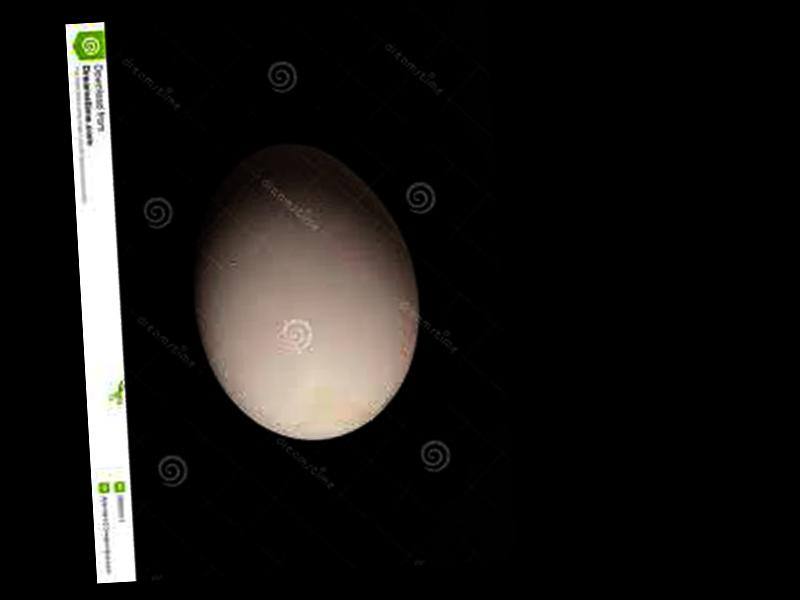Eggs: (185, 135, 426, 449)
